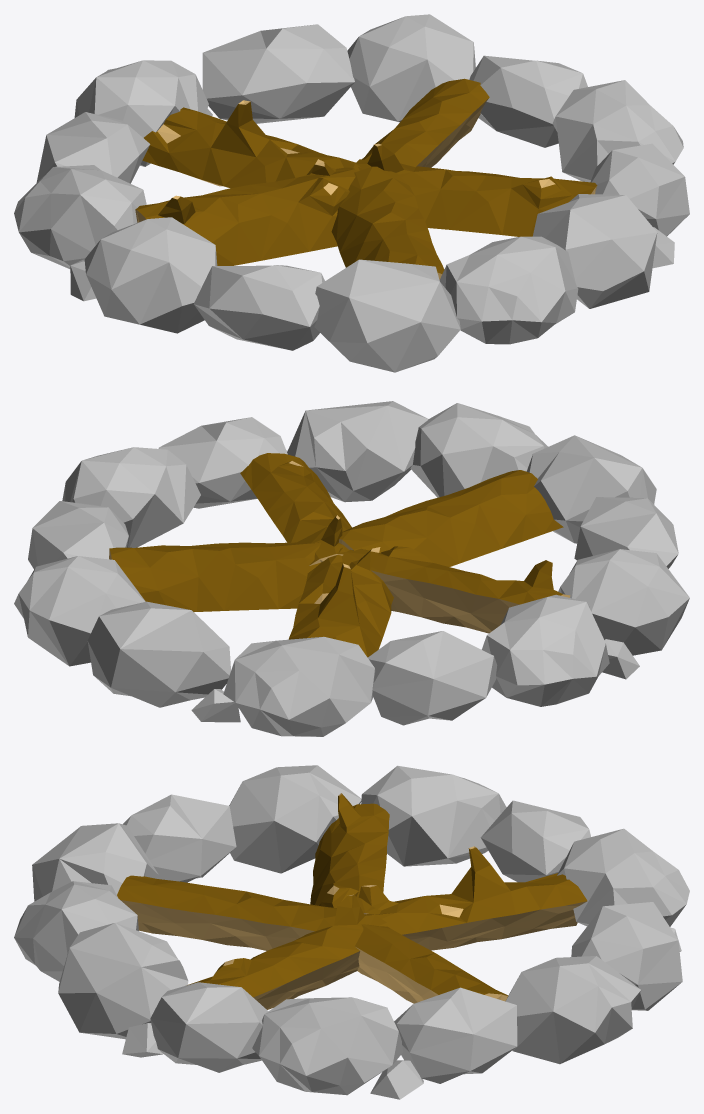
File: Campfire_Star.fbx
3 renders of one model, top to bottom at view 1: azimuth 30°, elevation 25°; view 2: azimuth 150°, elevation 25°; view 3: azimuth 270°, elevation 25°, orthographic. The views are drawn at different scales.
Visible parts, largest first — view 1: Campfire_Star; view 2: Campfire_Star; view 3: Campfire_Star.
Part boxes in pixels (bbox=[...]): Campfire_Star: bbox=[14, 14, 689, 372]; Campfire_Star: bbox=[14, 401, 689, 736]; Campfire_Star: bbox=[14, 765, 689, 1099].
Size of the model in its own units: 34.2 by 5.8 by 34.63.
